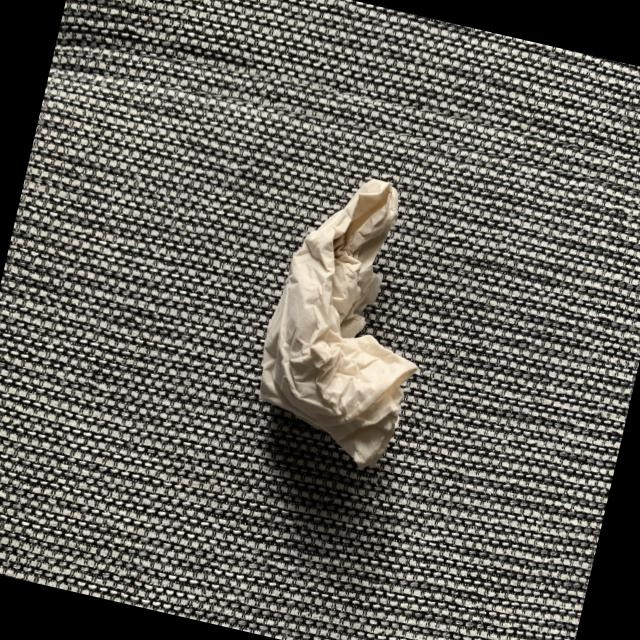organic waste: (238, 159, 454, 492)
